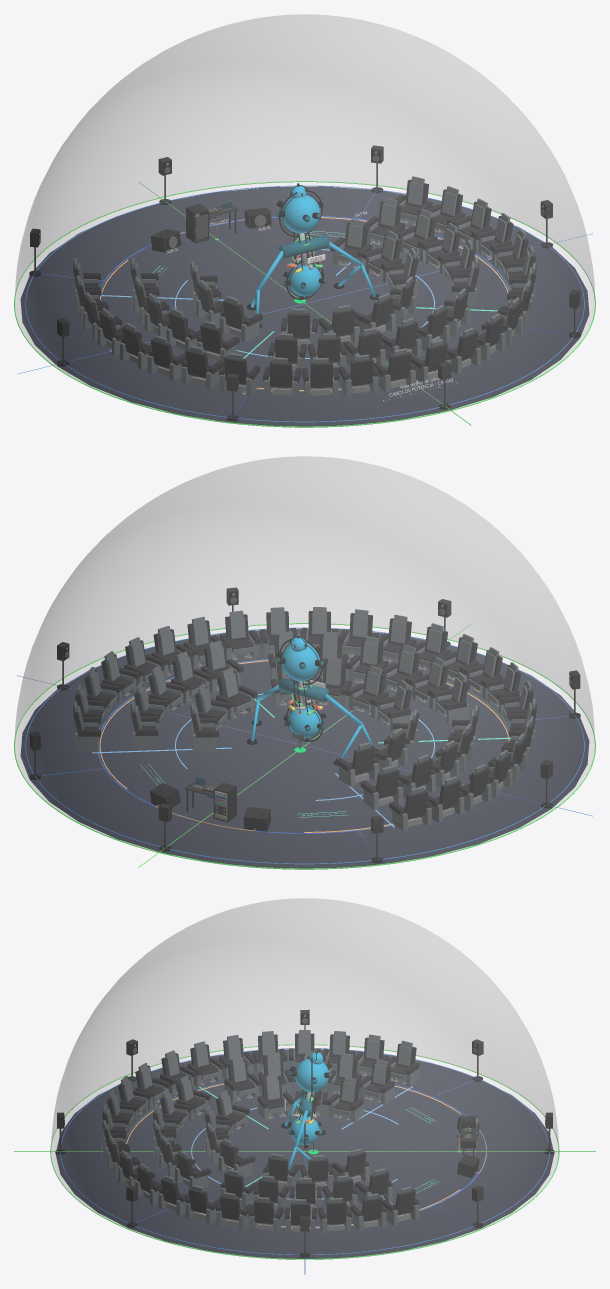
Rendered from planetario_web_export.glb.
The picture shows the model from 3 angles, top to bottom: view 1: azimuth 30°, elevation 25°; view 2: azimuth 150°, elevation 25°; view 3: azimuth 270°, elevation 25°; orthographic projection. The views are drawn at different scales.
Visible parts, largest first — view 1: Cúpula Planetário - Raio 10m, Circle, Anel de Referência - Limite Cúpula 10m, Anel de Referência - Satélites, Globo superior de projeção, Globo inferior de projeção, Tambor central horizontal, Cadeira - Encosto inclinado.024, Cadeira - Encosto inclinado.025, Cadeira - Encosto inclinado.023, Cadeira - Encosto inclinado.030, Cadeira - Encosto inclinado.031; view 2: Cúpula Planetário - Raio 10m, Circle, Anel de Referência - Limite Cúpula 10m, Anel de Referência - Satélites, Globo superior de projeção, Globo inferior de projeção, Tambor central horizontal, Subwoofer 01 - Corpo, Subwoofer 02 - Corpo; view 3: Cúpula Planetário - Raio 10m, Circle, Anel de Referência - Limite Cúpula 10m, Anel de Referência - Satélites, Globo superior de projeção, Globo inferior de projeção.
Boxes of the visible parts, x1,y1,x2,y2 form: Cúpula Planetário - Raio 10m: (15, 14, 595, 426); Circle: (20, 186, 589, 426); Anel de Referência - Limite Cúpula 10m: (14, 181, 595, 427); Anel de Referência - Satélites: (25, 185, 584, 422); Globo superior de projeção: (281, 194, 320, 233); Globo inferior de projeção: (288, 263, 321, 296); Tambor central horizontal: (278, 235, 329, 258); Cadeira - Encosto inclinado.024: (310, 361, 332, 386); Cadeira - Encosto inclinado.025: (269, 361, 292, 386); Cadeira - Encosto inclinado.023: (350, 358, 373, 384); Cadeira - Encosto inclinado.030: (331, 308, 355, 335); Cadeira - Encosto inclinado.031: (287, 312, 309, 337); Cúpula Planetário - Raio 10m: (14, 456, 594, 868); Circle: (20, 628, 589, 868); Anel de Referência - Limite Cúpula 10m: (14, 623, 595, 869); Anel de Referência - Satélites: (25, 627, 584, 864); Globo superior de projeção: (281, 642, 320, 681); Globo inferior de projeção: (288, 705, 321, 738); Tambor central horizontal: (278, 678, 329, 701); Subwoofer 01 - Corpo: (243, 807, 270, 831); Subwoofer 02 - Corpo: (149, 783, 180, 807); Cúpula Planetário - Raio 10m: (51, 898, 558, 1258); Circle: (55, 1049, 554, 1258); Anel de Referência - Limite Cúpula 10m: (50, 1044, 559, 1259); Anel de Referência - Satélites: (60, 1048, 549, 1255); Globo superior de projeção: (295, 1058, 328, 1092); Globo inferior de projeção: (290, 1116, 319, 1144).
Bounding box in the file's own units: 22.9 × 10.19 × 22.9.
